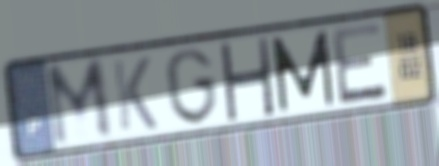E: (328, 19, 391, 108)
G: (162, 45, 221, 127)
H: (216, 36, 277, 122)
K: (109, 54, 161, 134)
M: (42, 54, 116, 151), (268, 27, 338, 116)
